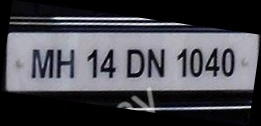character: (30, 47, 54, 79), (126, 48, 145, 79), (56, 47, 74, 79), (147, 47, 165, 78), (99, 48, 116, 79), (203, 47, 220, 77), (189, 47, 203, 78), (221, 46, 235, 77), (176, 47, 188, 78), (86, 48, 98, 78)
